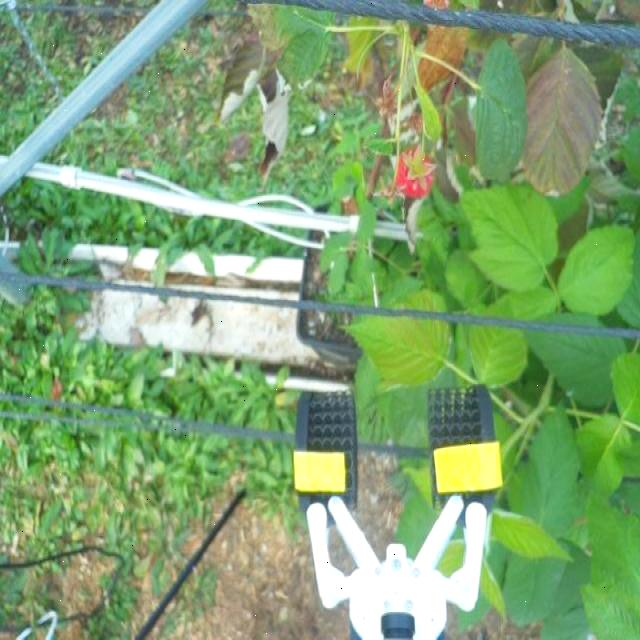Riped berries: (391, 141, 436, 200)
